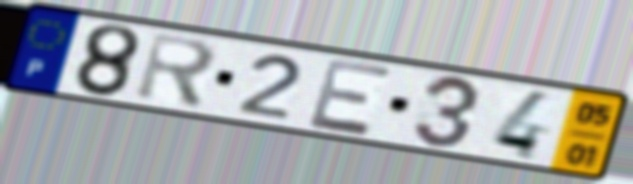2: (234, 52, 308, 122)
3: (410, 74, 482, 152)
4: (485, 87, 555, 163)
8: (73, 22, 144, 100)
E: (305, 55, 398, 139)
R: (131, 29, 221, 113)
